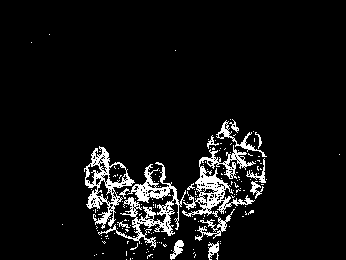person: (185, 155, 233, 260), (141, 161, 182, 260), (108, 162, 140, 257), (84, 139, 110, 253), (238, 132, 266, 222)
